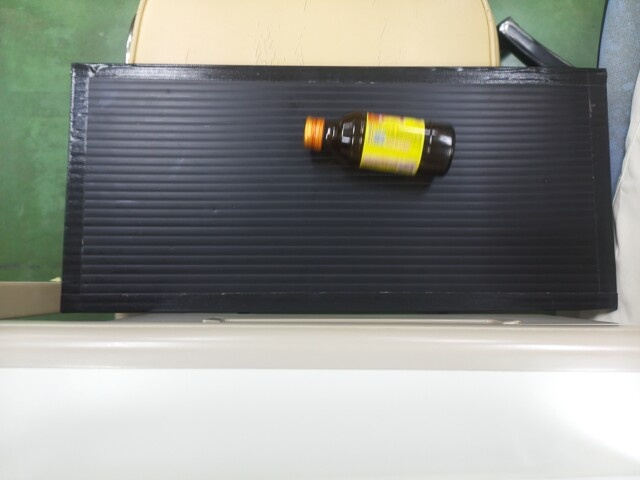glass_bottle: (305, 110, 452, 180)
